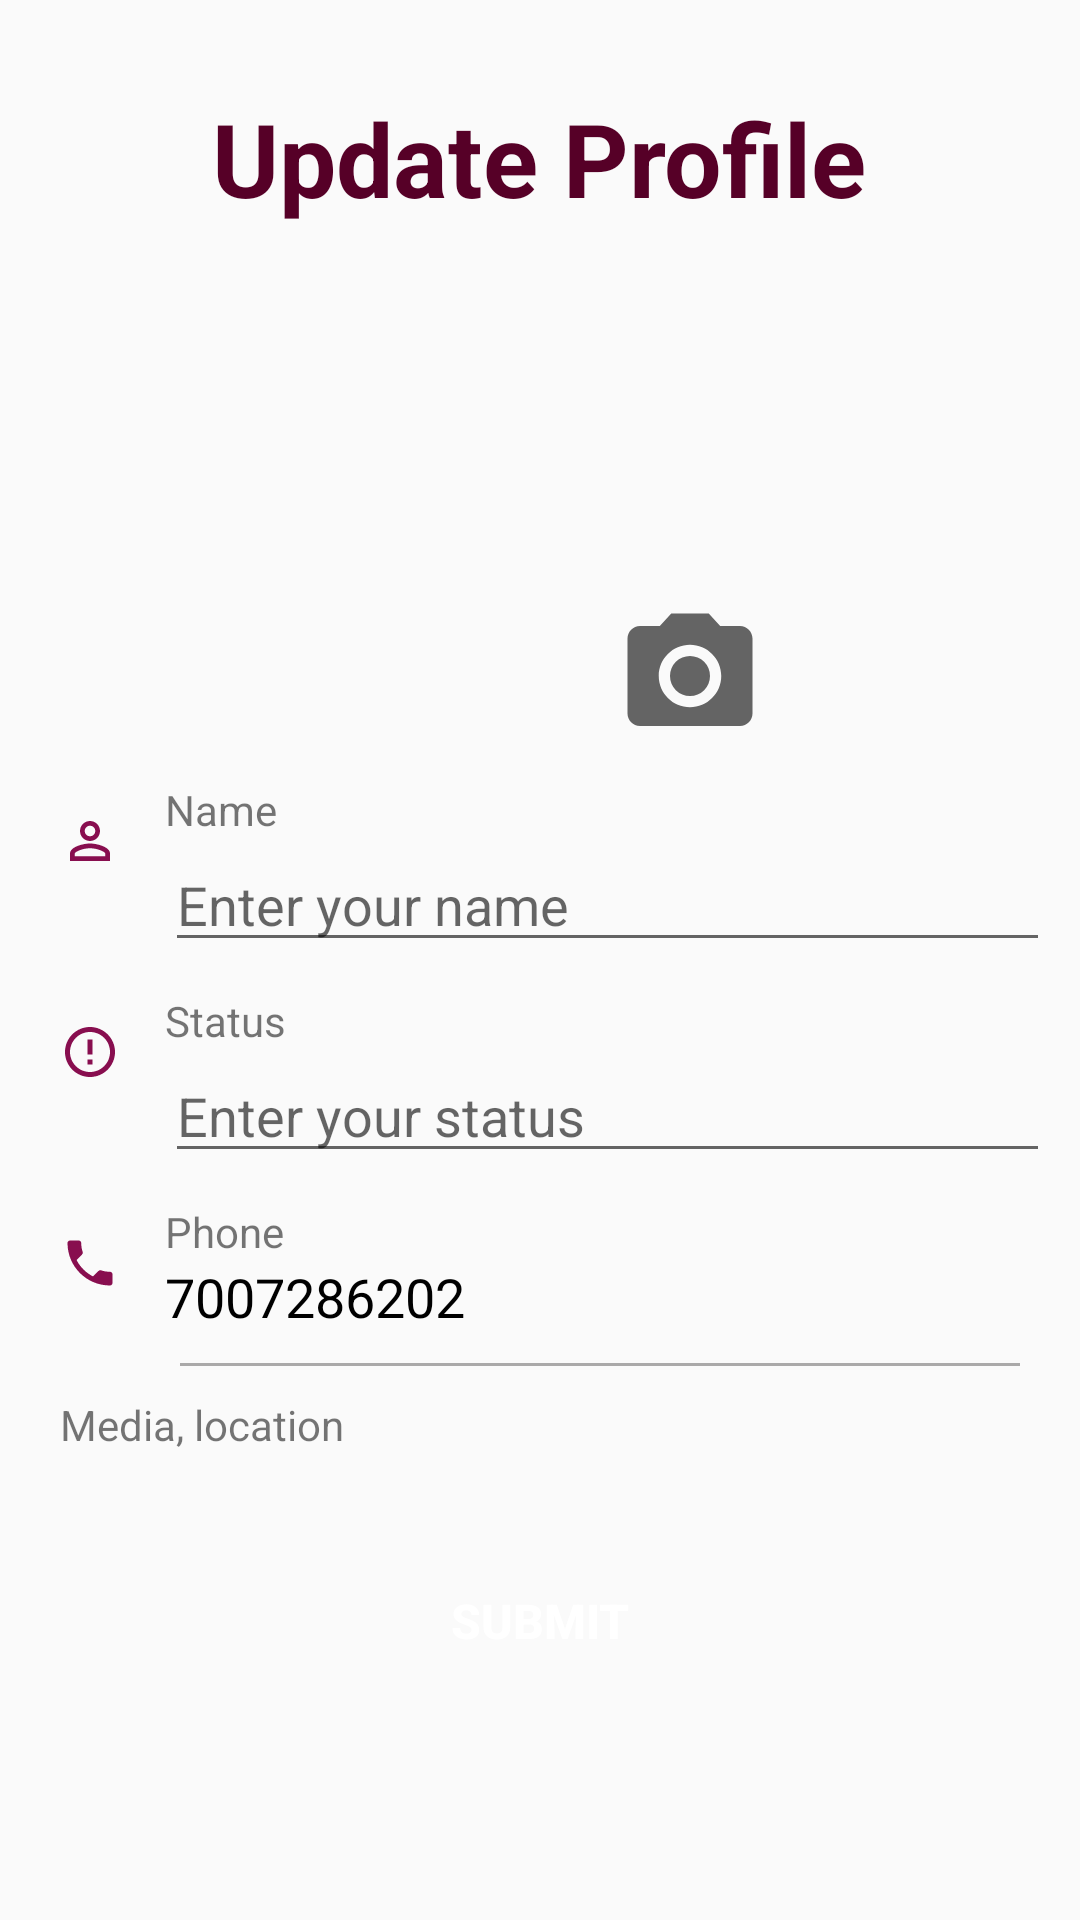

Where to tap for icons on this 1080px×1920px app screen, as (x,y):
person: (90,841)
photo camera: (690,669)
